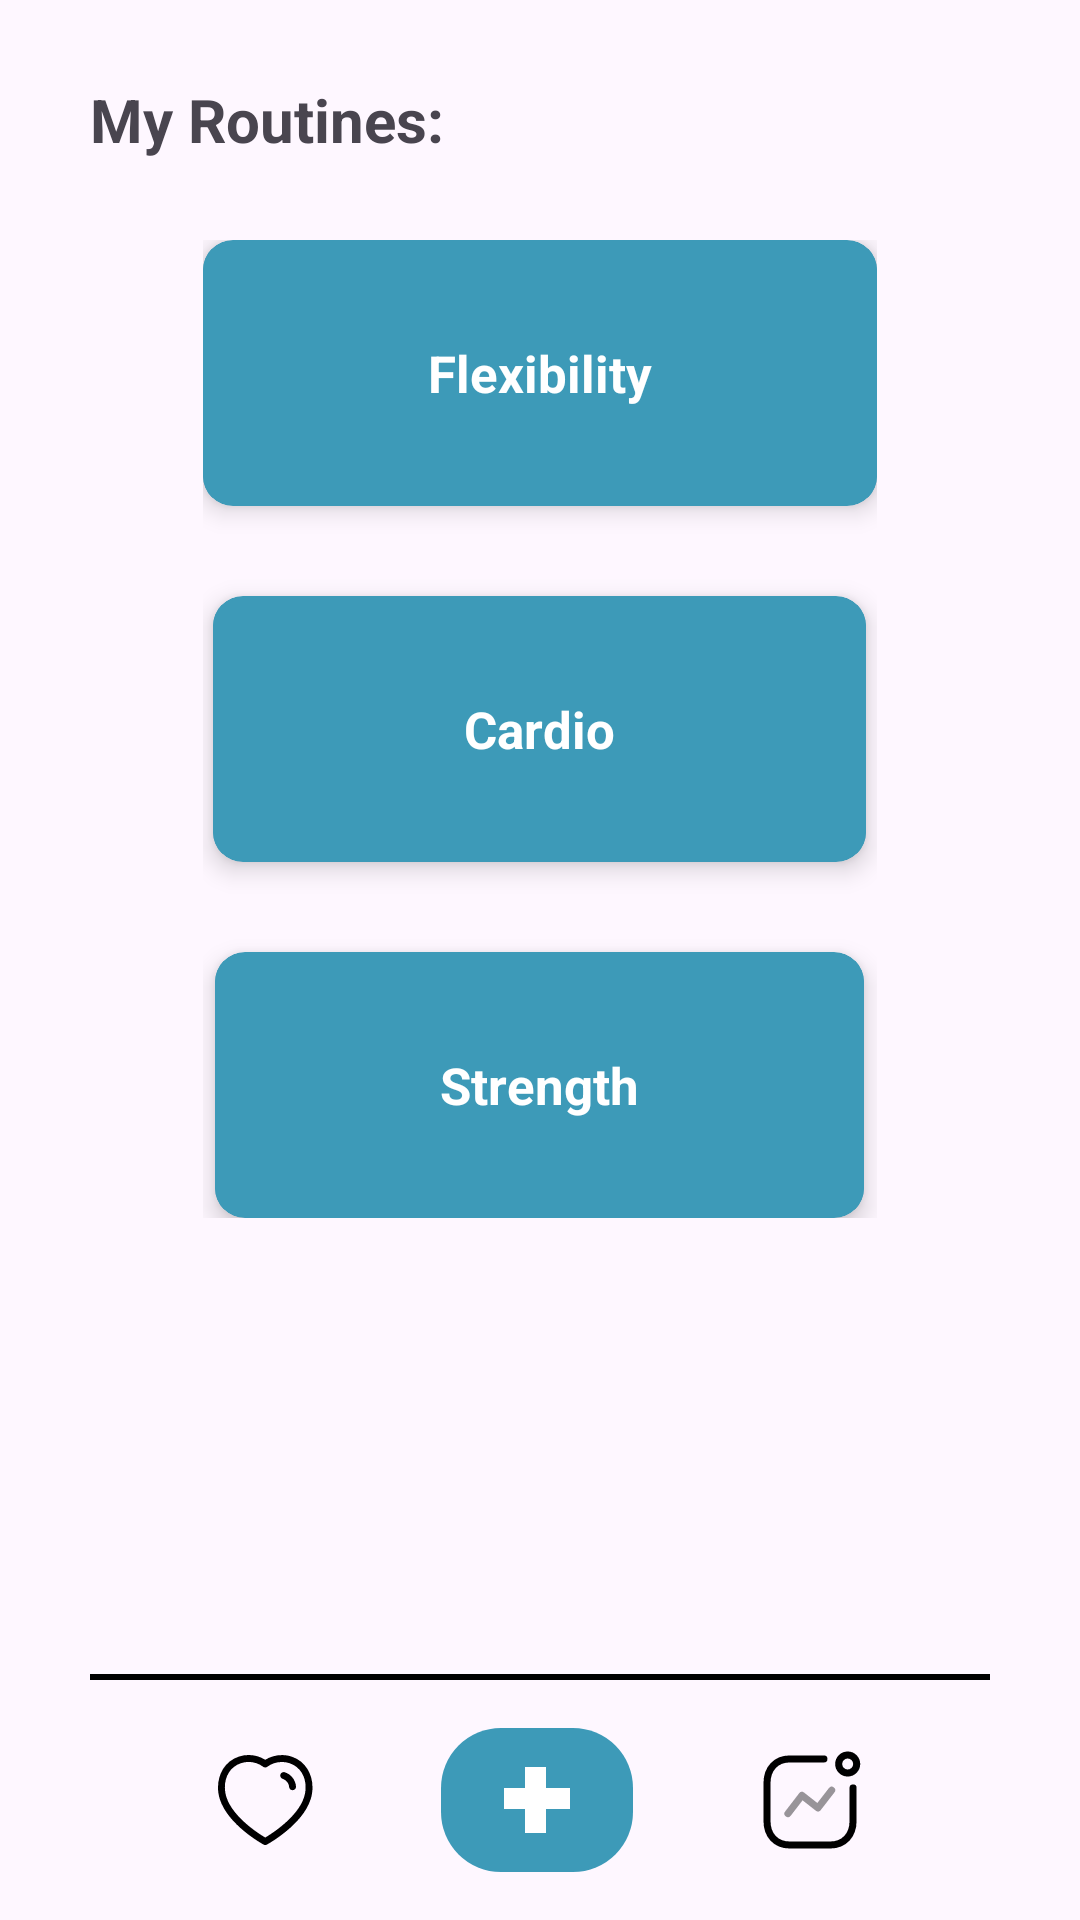

Named icons in this screenshot (1080 x 1920) and their centers, [x,y]:
addition: [537,1800]
heart: [265,1800]
progress: [812,1800]
